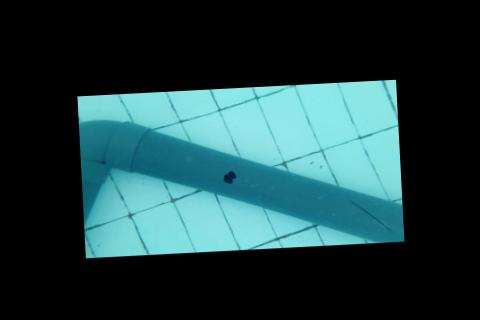kebocoran: (220, 169, 237, 185)
keretakan: (346, 196, 395, 236)
